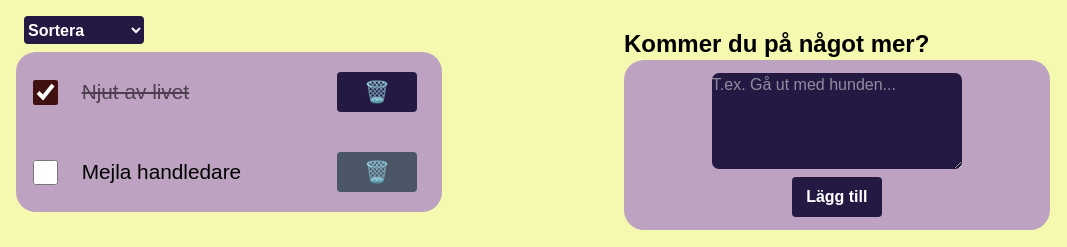
Test case: template spec › user can delete todo if marked as done
The image size is (1067, 247).
Check: the number of list items is 2, box left=33, top=72, right=417, bottom=112; left=33, top=152, right=417, bottom=192
Check: the checkbox named "Klicka här när uppgiften är färdig" next to "Njut av livet" is checked, box left=33, top=80, right=58, bottom=105
Click the button "🗑️" next to "Njut av livet" at (377, 92), box left=337, top=72, right=417, bottom=112
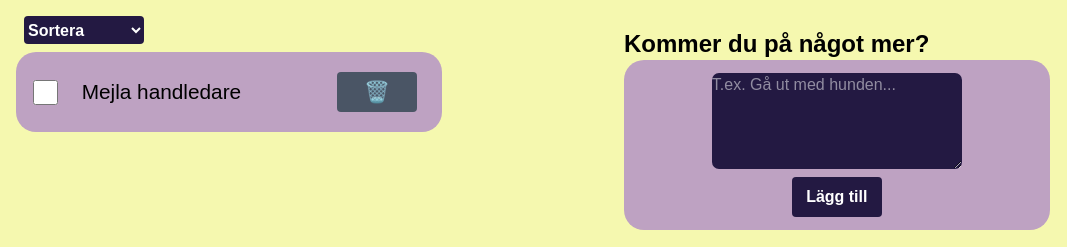
Check: the number of list items is 1, box left=33, top=72, right=417, bottom=112
